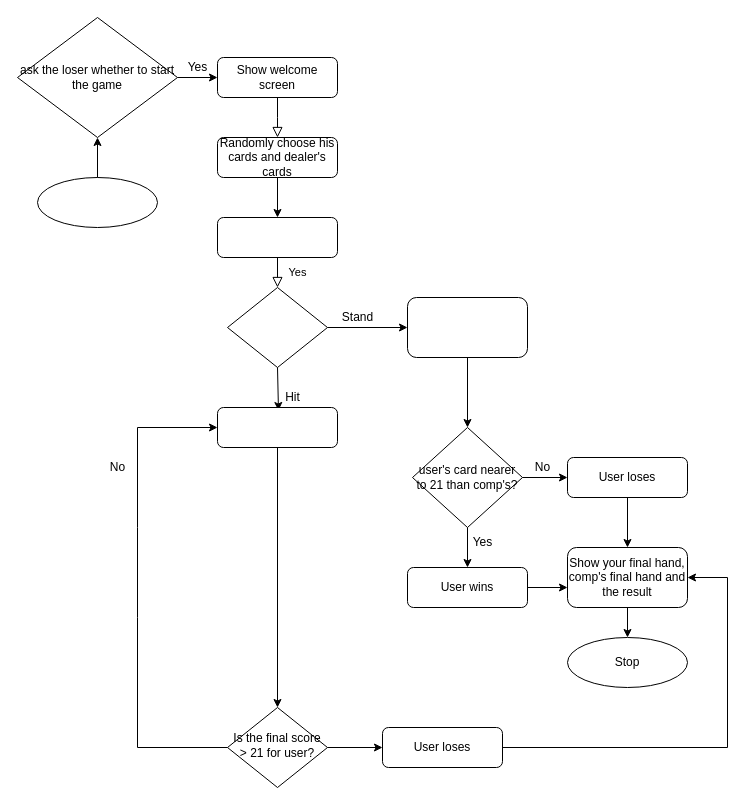
Some shapes in this 753 by 805 pixel diagram are drawn without their labels. Here are the shapes that lost their labels. From the top down, the centre of each, then its label:
point (97, 202): Start
point (277, 237): Show the user's both cards, and dealer's one card
point (277, 327): hit or stand?
point (467, 327): draw max 4 cards for comp or if comp's score > 21, stop early
point (277, 427): Draw a card for user and show the hand
